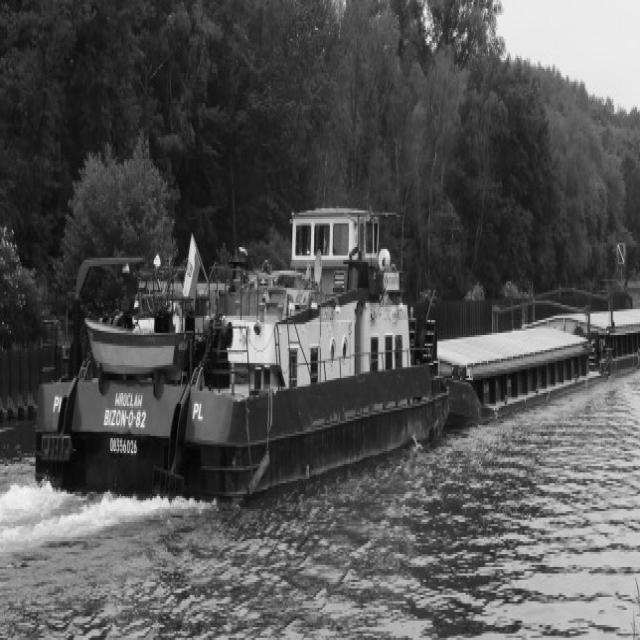tugboat: (31, 190, 485, 508)
